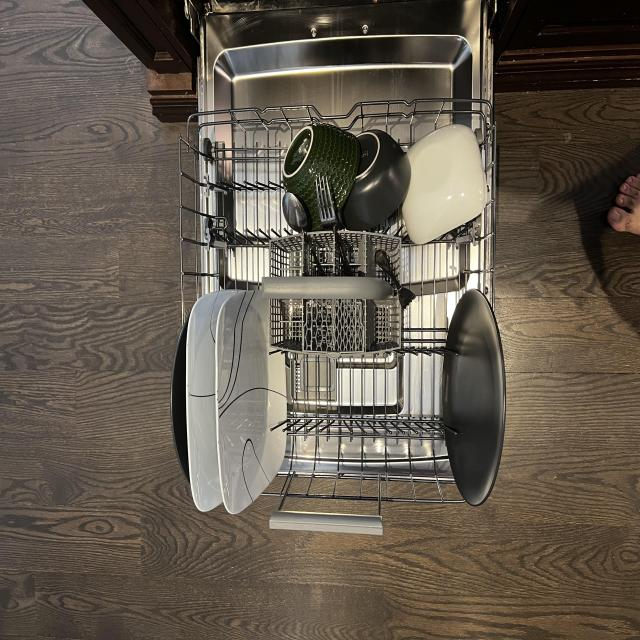Bowl: (281, 117, 359, 230)
Fork: (311, 171, 354, 277), (374, 245, 420, 318)
Plate: (215, 286, 288, 518), (439, 288, 507, 511)
Spoon: (281, 190, 328, 276)
